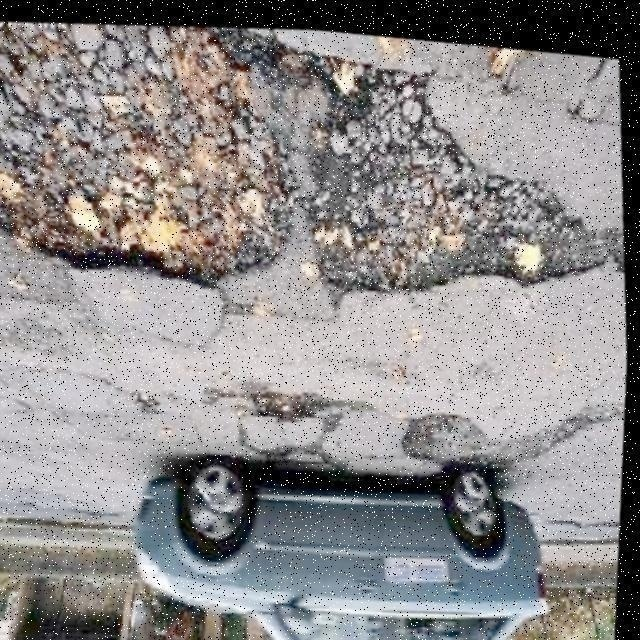pothole: (0, 0, 636, 356), (400, 354, 629, 474), (227, 368, 381, 428)
